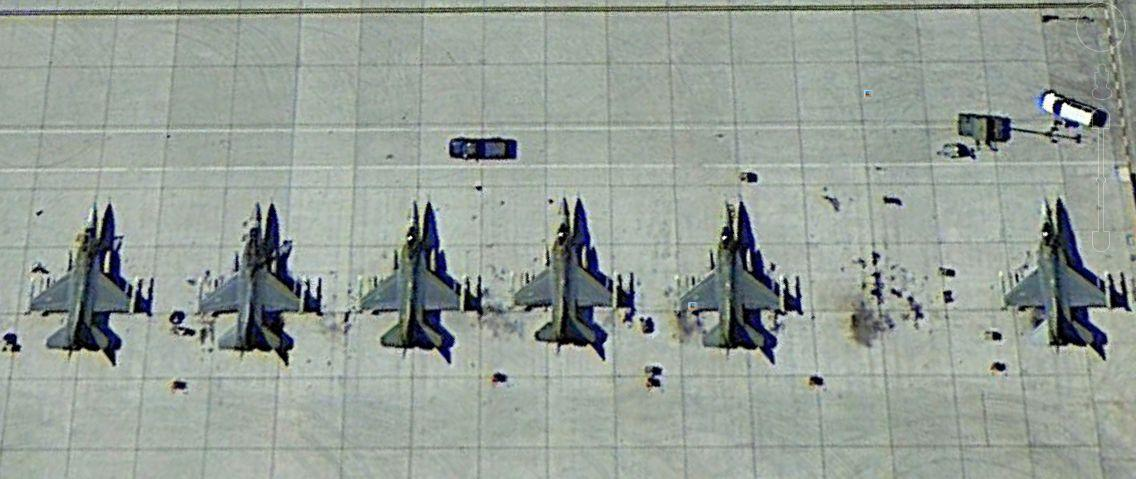F-16: (194, 202, 311, 353), (674, 200, 789, 352), (1003, 197, 1117, 350), (32, 197, 144, 352), (356, 199, 468, 354), (514, 197, 624, 344)
